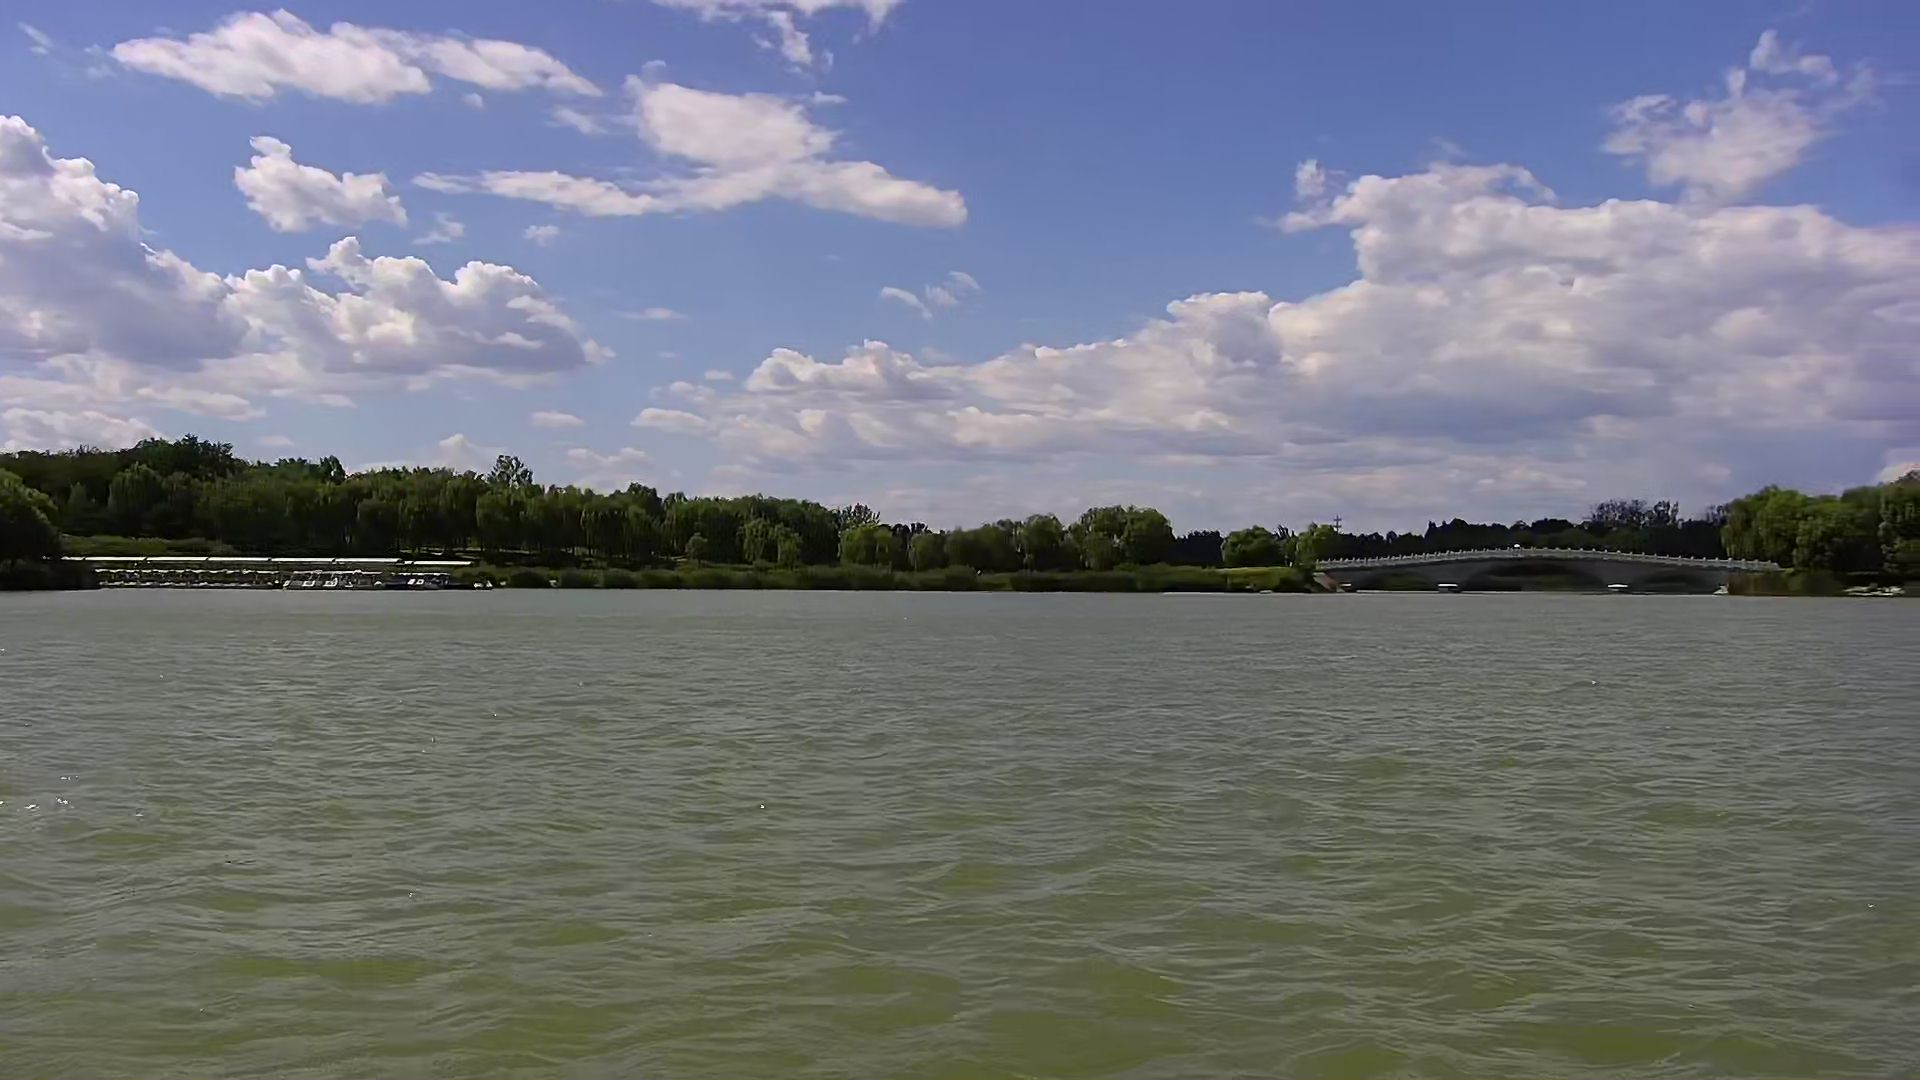bridge: (1319, 549, 1785, 597)
harbor: (59, 553, 473, 597)
